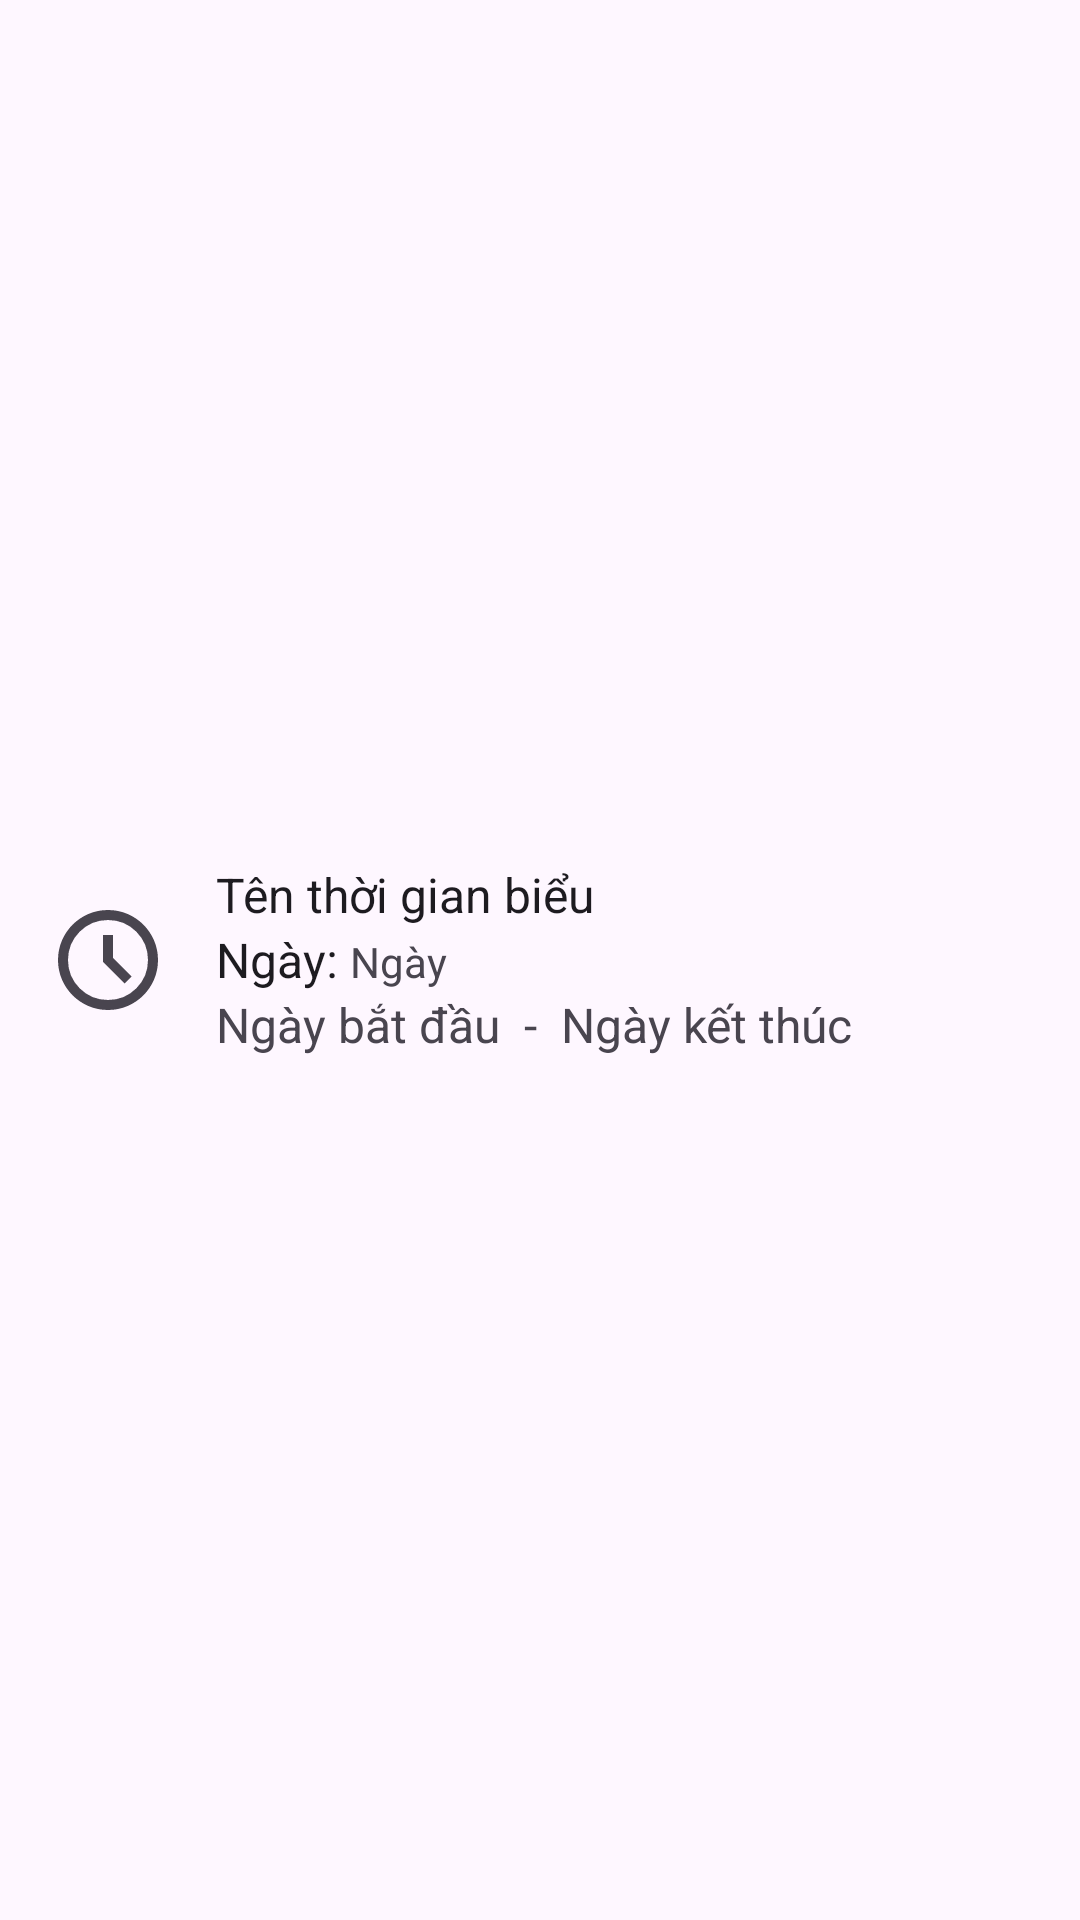

Locate icon controls on the screen. Image size 1080x1920, boxes as Rect(x1, y1, x2, y2).
schedule: Rect(58, 910, 158, 1010)
